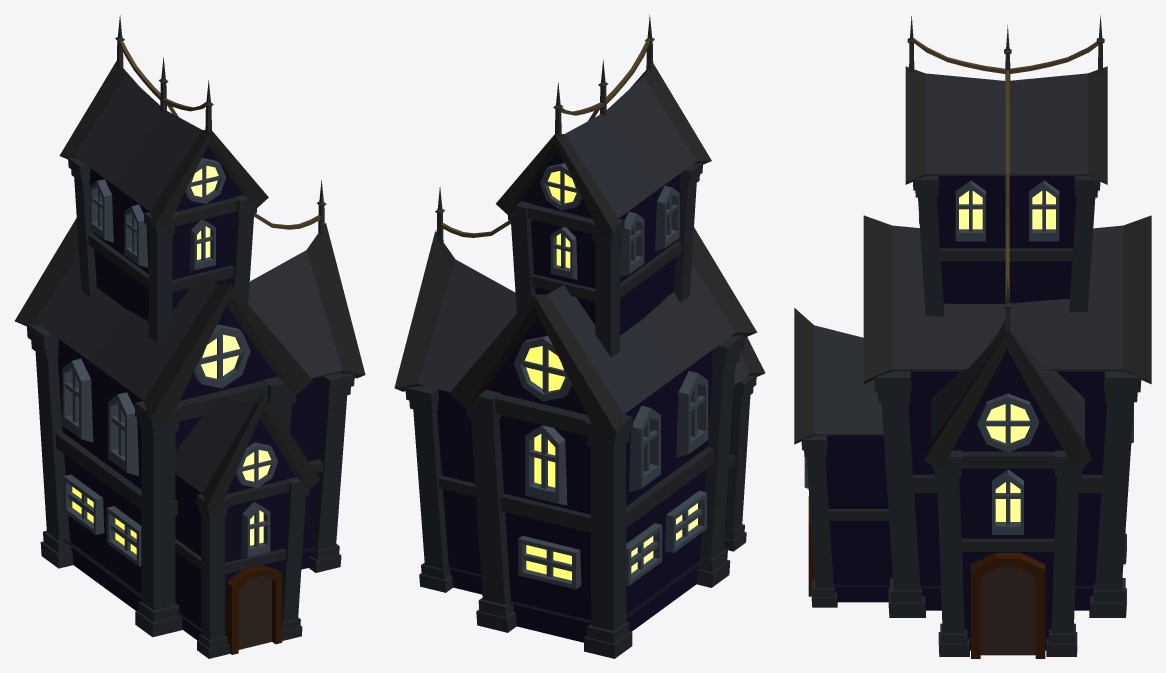
The model's file is CasaGoticaVariante1_Casa07.fbx.
3 views of the same model, side by side, from view 1: azimuth 30°, elevation 25°; view 2: azimuth 150°, elevation 25°; view 3: azimuth 270°, elevation 25° (orthographic). The views are drawn at different scales.
Parts seen in each view (by area): view 1: Teto07, Pilar07, Parede07, JanelaMolde07, Divisa07, JanelaFundo07, Porta07, PortaContorno07, Ponta07, Corda07, Base07; view 2: Teto07, Pilar07, Parede07, JanelaMolde07, Divisa07, JanelaFundo07, Ponta07, Corda07, Base07; view 3: Teto07, Parede07, Pilar07, Divisa07, JanelaMolde07, Porta07, PortaContorno07, JanelaFundo07, Corda07, Ponta07.
Part boxes in pixels (bbox=[...]): Teto07: bbox=[15, 61, 365, 512]; Pilar07: bbox=[26, 157, 354, 658]; Parede07: bbox=[57, 145, 324, 640]; JanelaMolde07: bbox=[62, 158, 278, 566]; Divisa07: bbox=[55, 198, 323, 574]; JanelaFundo07: bbox=[72, 165, 271, 554]; Porta07: bbox=[238, 576, 271, 649]; PortaContorno07: bbox=[225, 565, 282, 654]; Ponta07: bbox=[115, 15, 326, 235]; Corda07: bbox=[119, 41, 320, 229]; Base07: bbox=[62, 539, 316, 631]; Teto07: bbox=[394, 63, 765, 441]; Pilar07: bbox=[405, 162, 756, 658]; Parede07: bbox=[437, 150, 734, 642]; JanelaMolde07: bbox=[514, 163, 708, 589]; Divisa07: bbox=[438, 204, 734, 532]; JanelaFundo07: bbox=[525, 171, 697, 580]; Ponta07: bbox=[435, 14, 654, 243]; Corda07: bbox=[441, 38, 649, 237]; Base07: bbox=[445, 530, 731, 623]; Teto07: bbox=[794, 66, 1151, 470]; Parede07: bbox=[825, 176, 1107, 650]; Pilar07: bbox=[801, 176, 1141, 656]; Divisa07: bbox=[828, 248, 1102, 551]; JanelaMolde07: bbox=[804, 180, 1133, 534]; Porta07: bbox=[980, 567, 1035, 655]; PortaContorno07: bbox=[808, 496, 1045, 658]; JanelaFundo07: bbox=[959, 191, 1055, 521]; Corda07: bbox=[913, 38, 1098, 302]; Ponta07: bbox=[907, 15, 1104, 332].
Size of the model in its own units: 1643 by 3439 by 1956.
